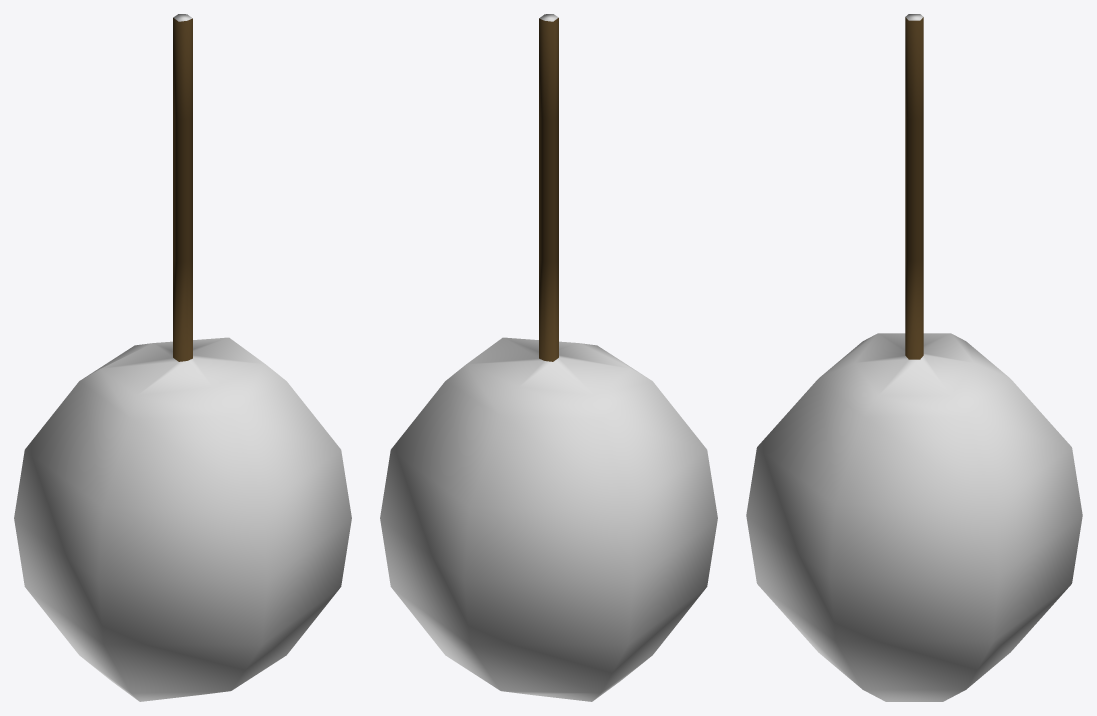
Rendered from Fruit.fbx.
The picture shows the model from 3 angles, left to right: view 1: azimuth 30°, elevation 25°; view 2: azimuth 150°, elevation 25°; view 3: azimuth 270°, elevation 25°; orthographic projection.
Visible parts, largest first — view 1: Sphere; view 2: Sphere; view 3: Sphere.
Boxes of the visible parts, <box> form: Sphere: <box>14,14,351,701</box>; Sphere: <box>380,14,717,701</box>; Sphere: <box>746,14,1082,701</box>.
Size of the model in its own units: 23.02 by 57.48 by 26.59.
